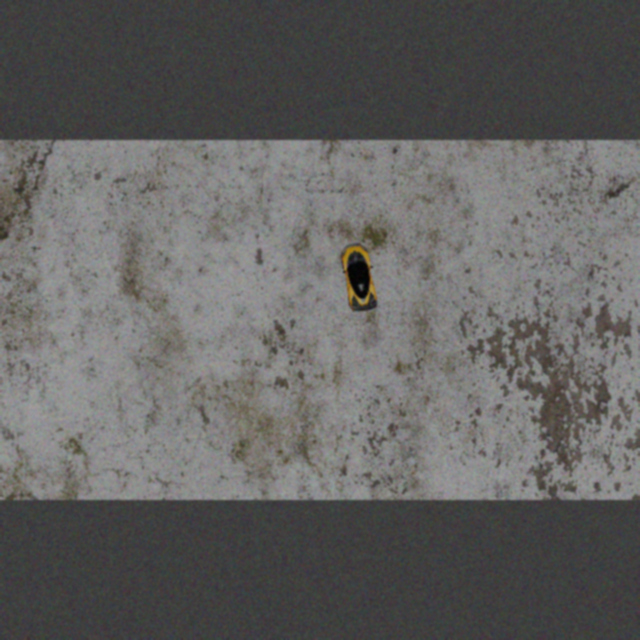car: (338, 241, 381, 313)
